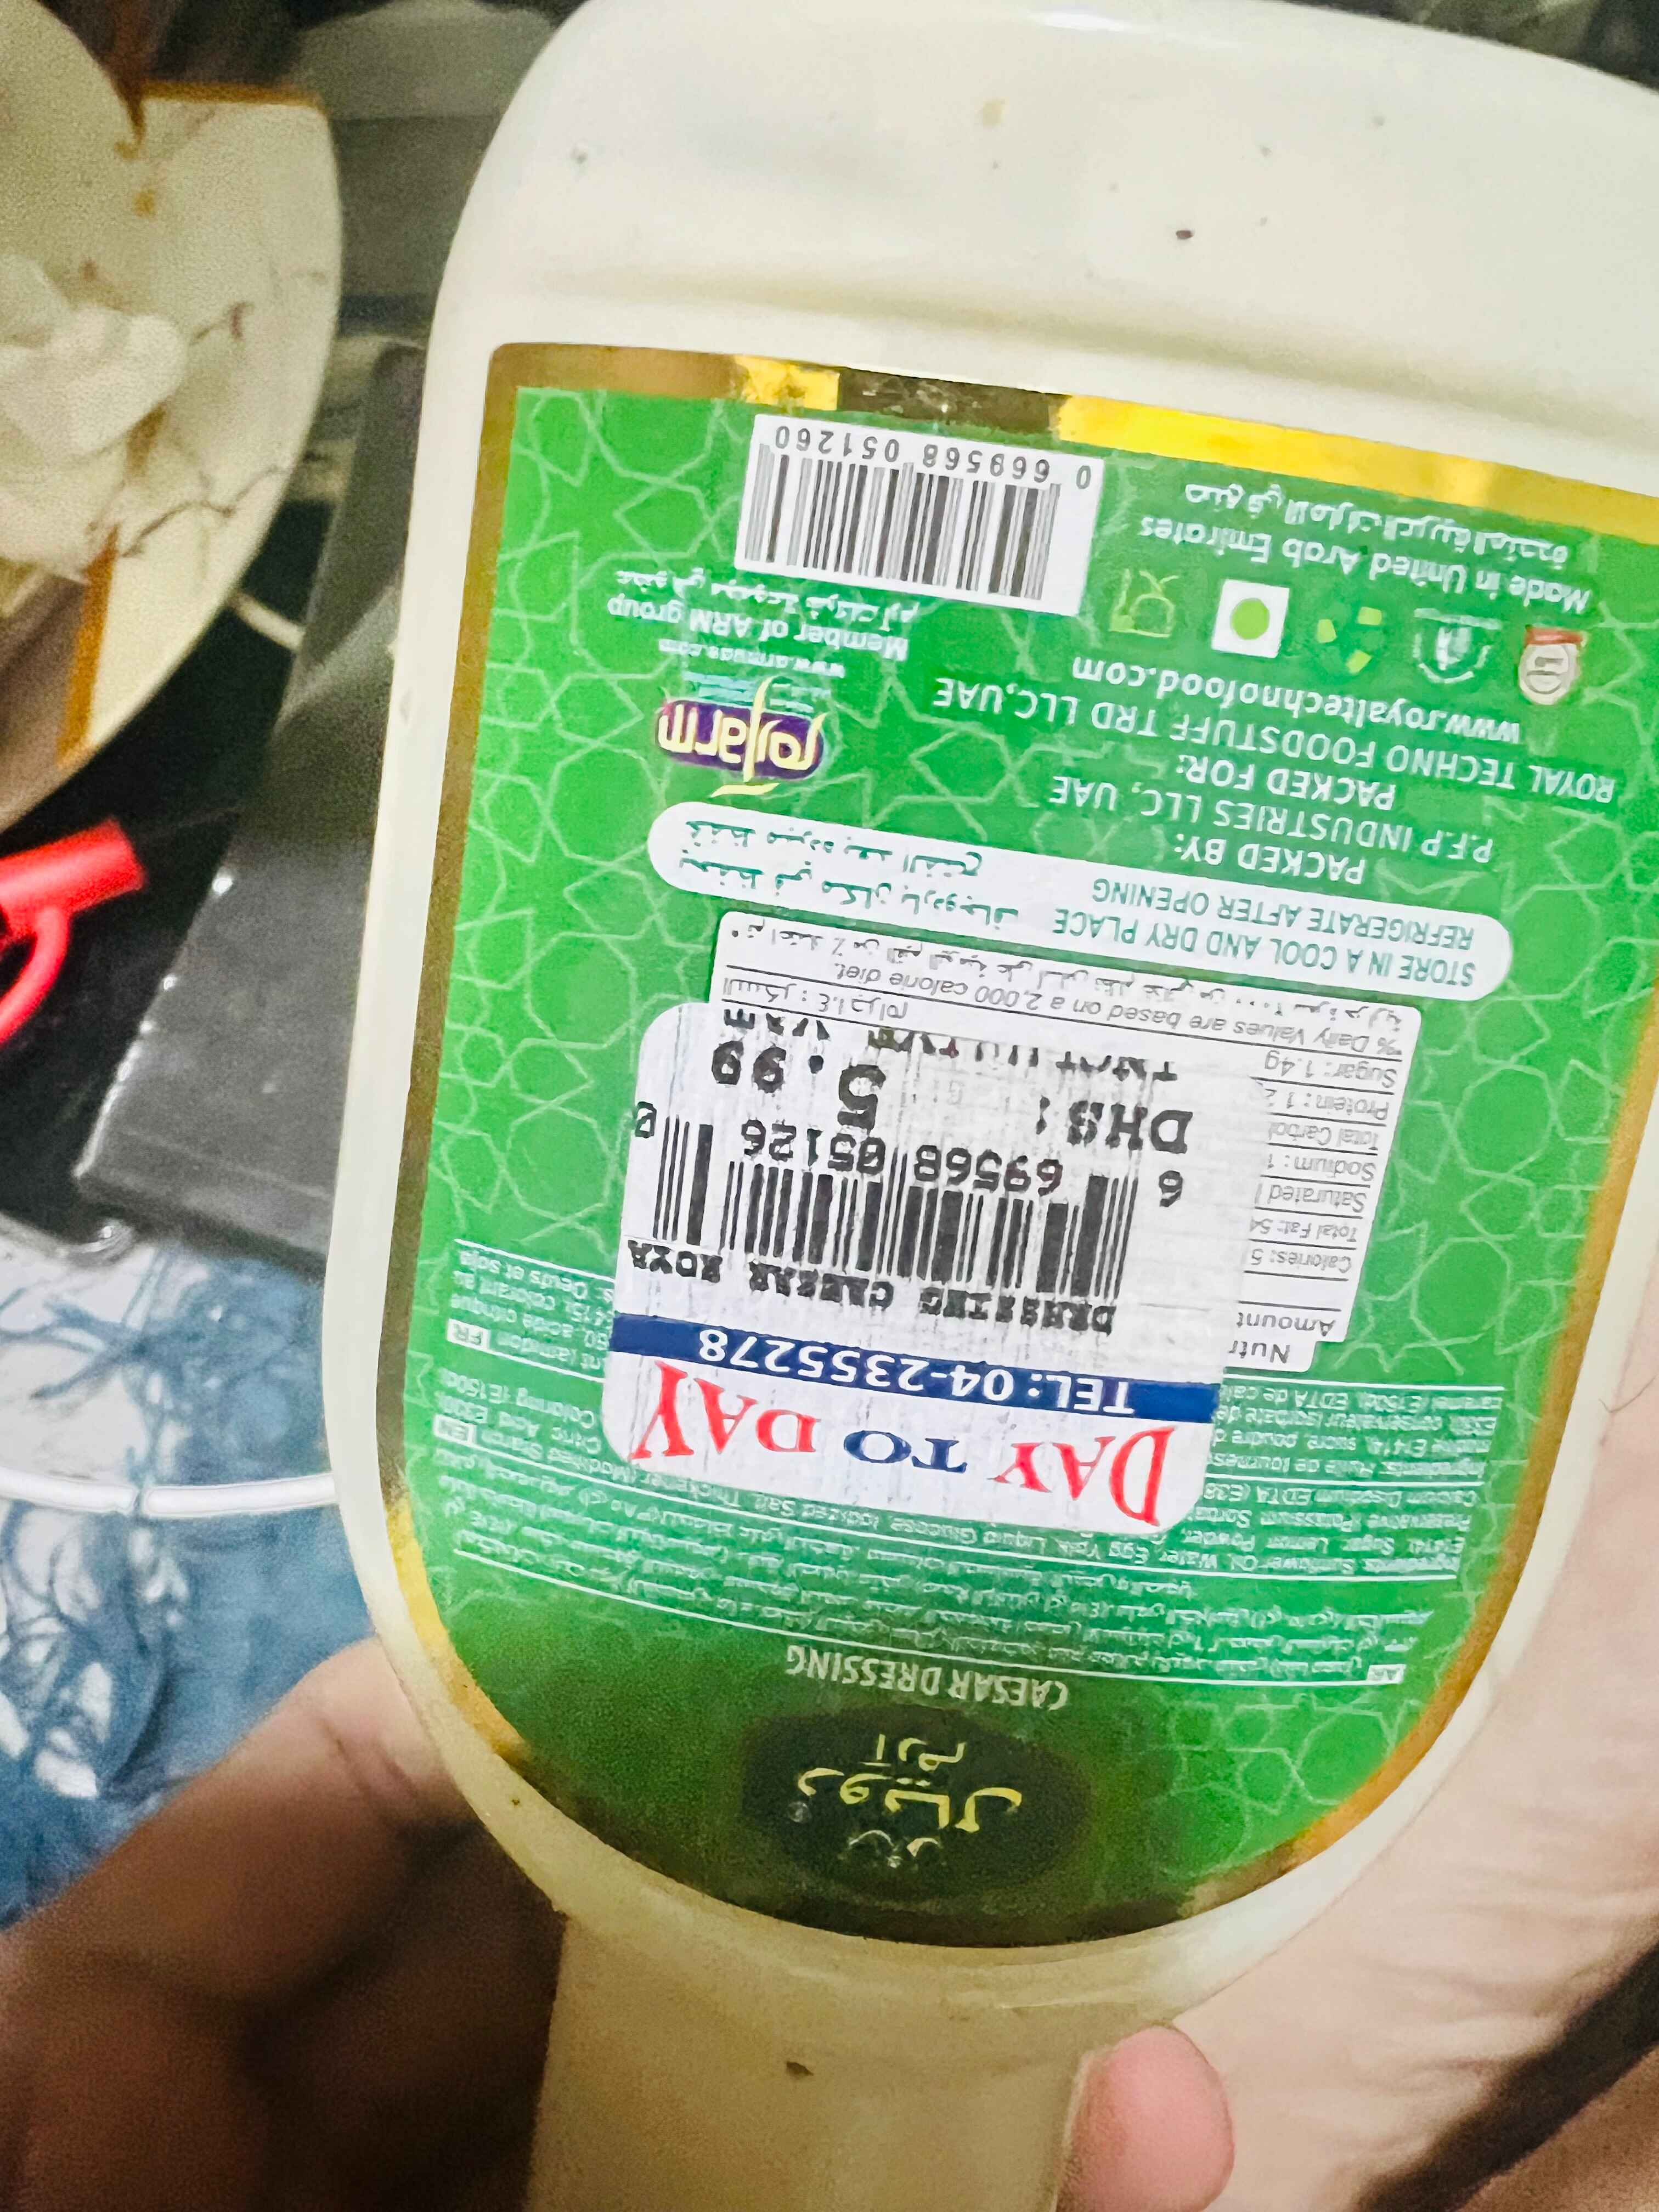PriceTagBig: (608, 1000, 1229, 1541)
